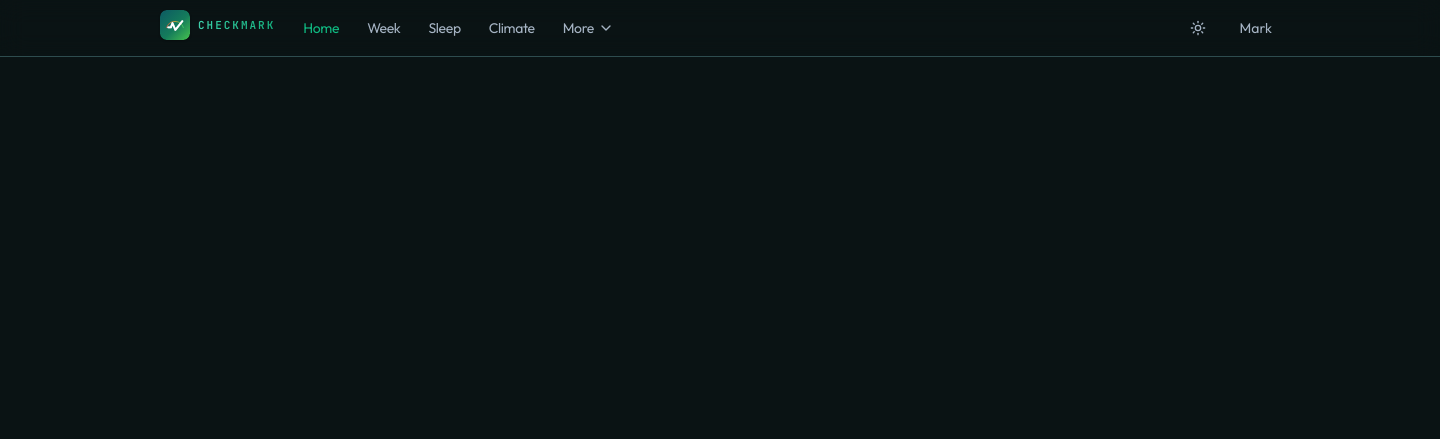
Scenario: primary navigation › TopBar desktop nav mirrors the primary tabs and "More" dropdown mirrors MoreMenu
This screenshot has width=1440, height=439.
Expected: the link "Home" is shown, [303, 19, 339, 37]
Expected: the link "Week" is shown, [367, 19, 400, 37]
Click the button "More".
click(588, 28)  # box [551, 12, 626, 44]
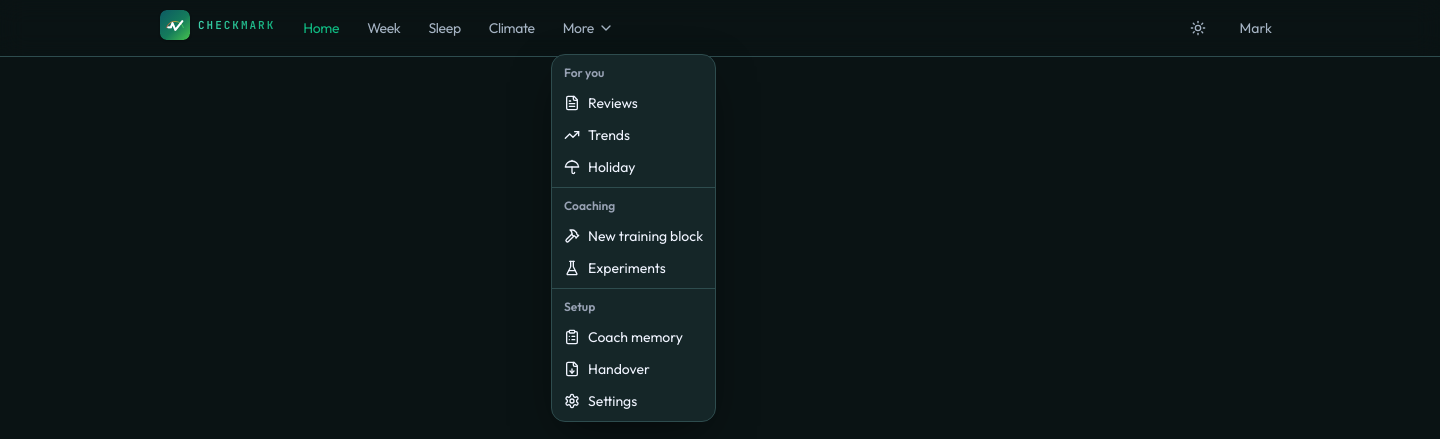
Result: the text "For you" is shown at [564, 65, 604, 80]
Result: the text "Coaching" is shown at [564, 198, 615, 213]
Result: the text "Setup" is shown at [564, 299, 595, 314]
